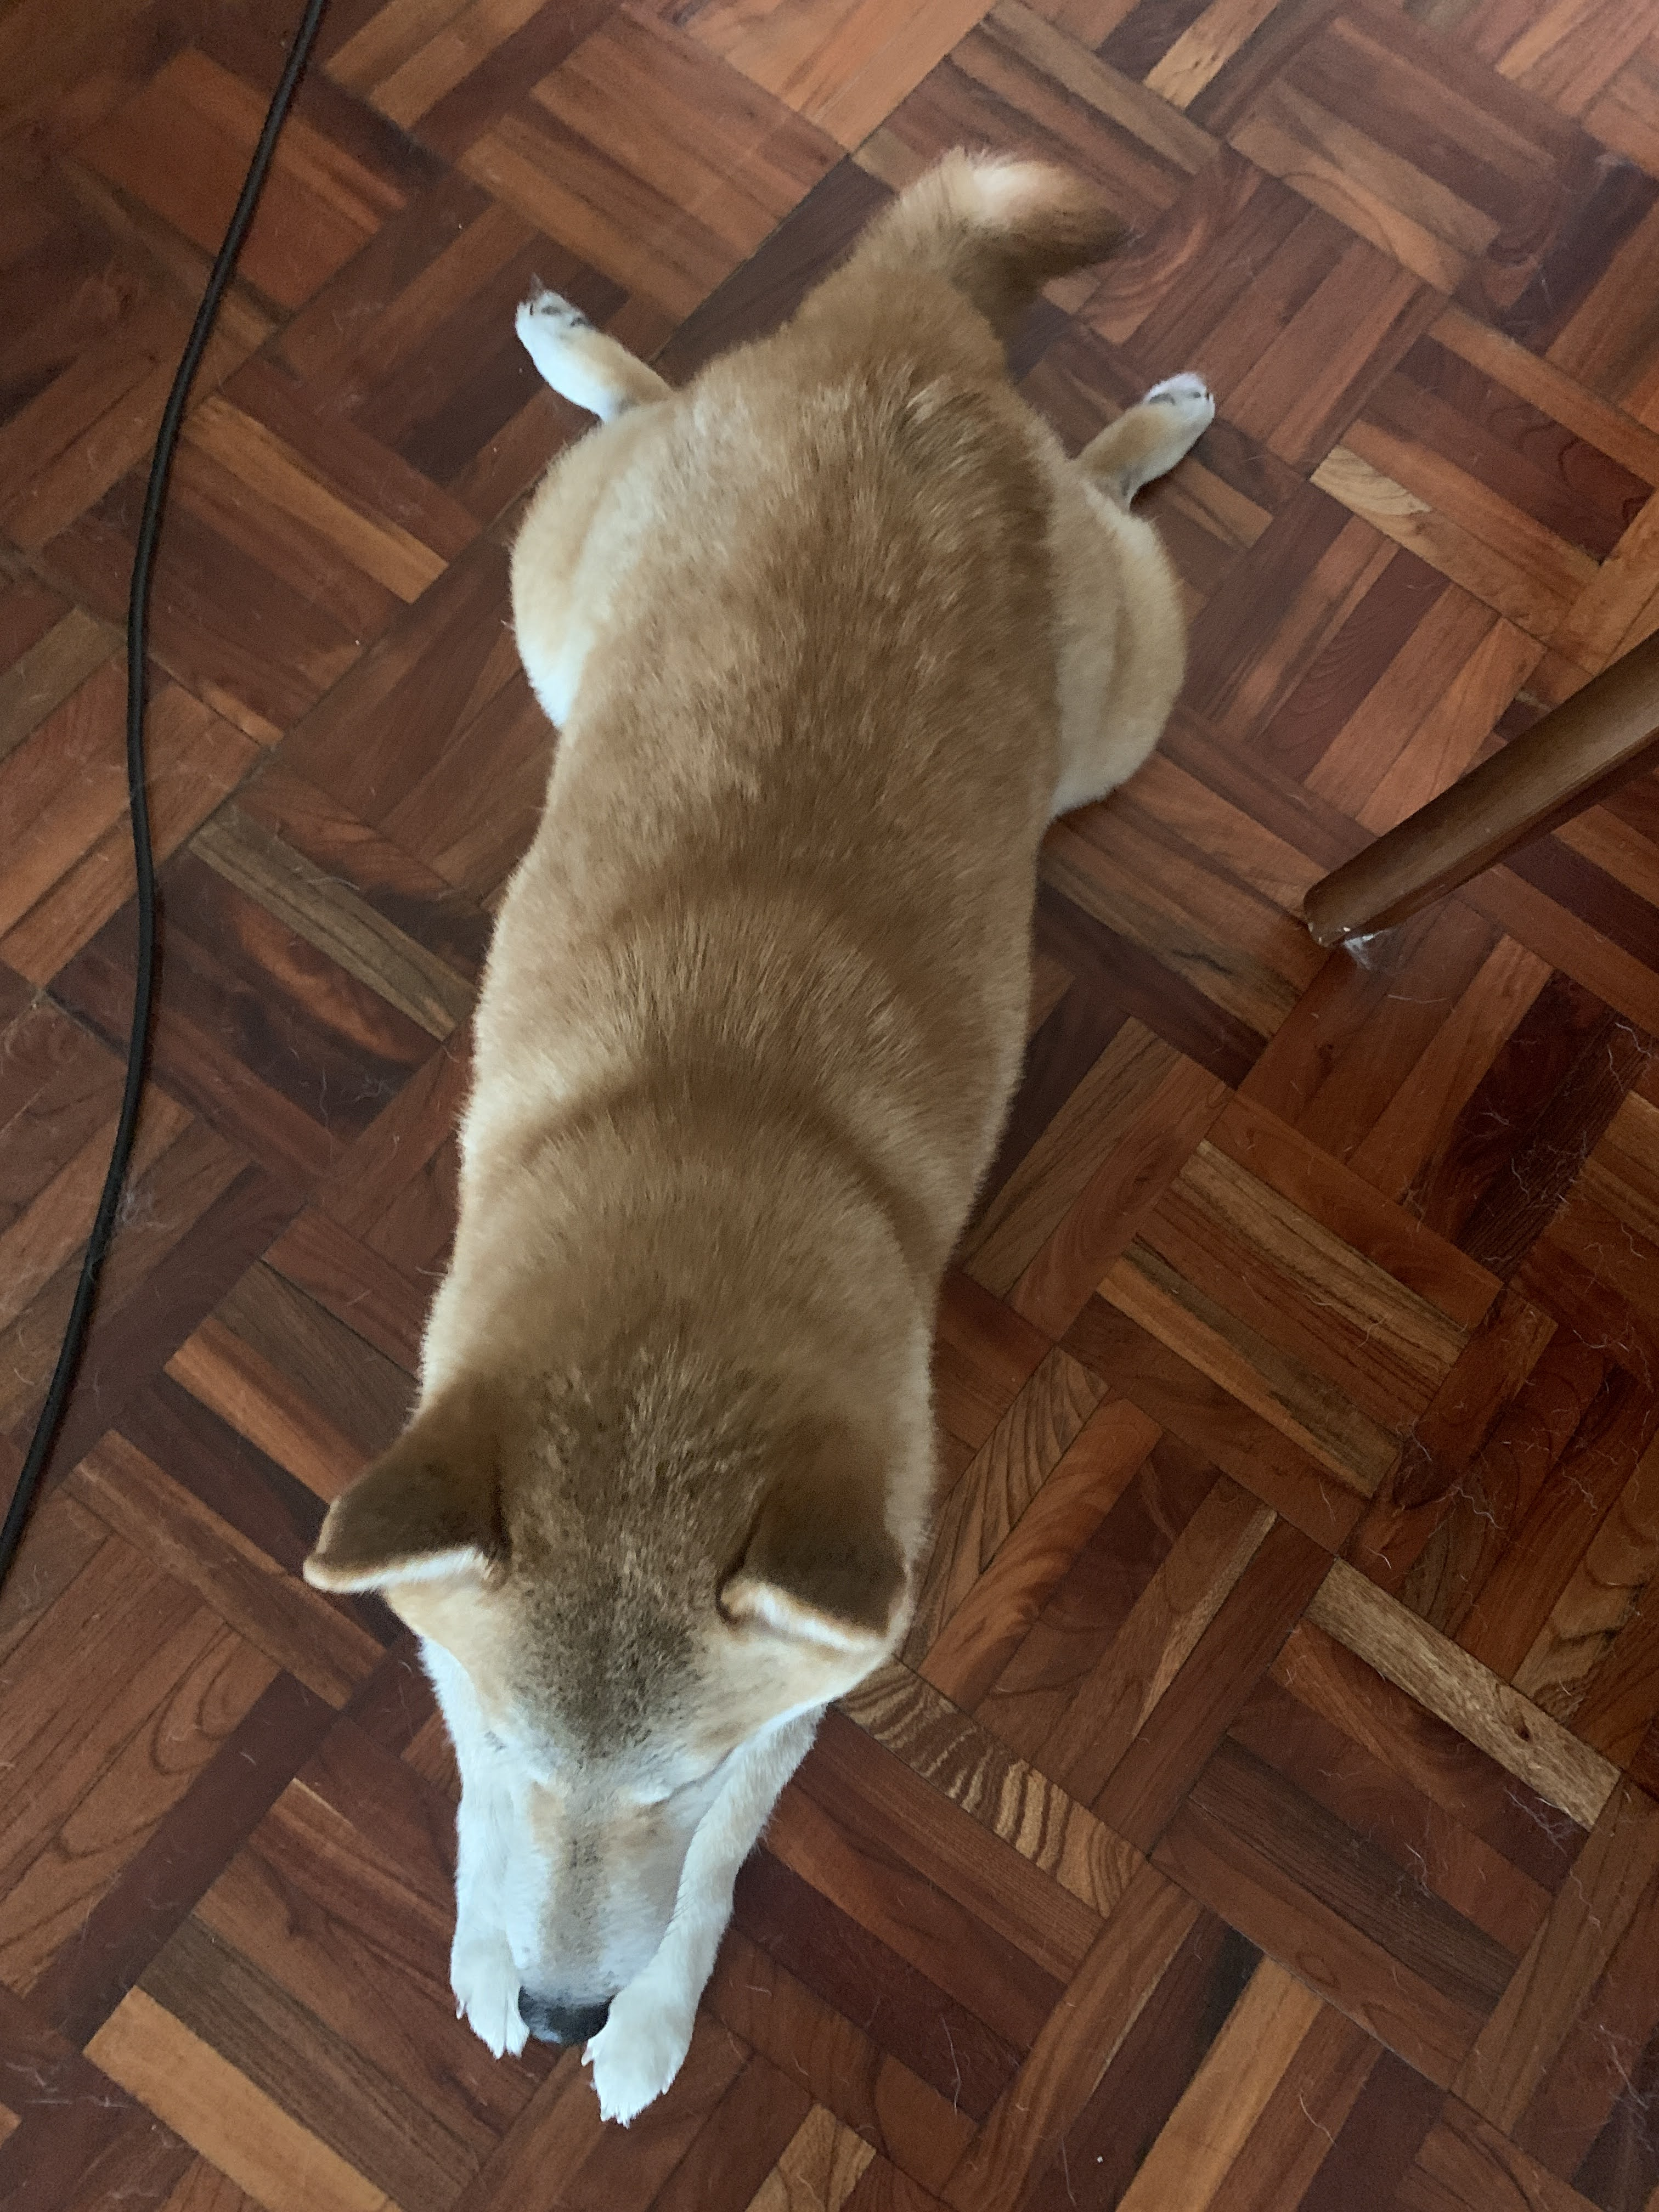Get down: (343, 131, 1199, 2102)
